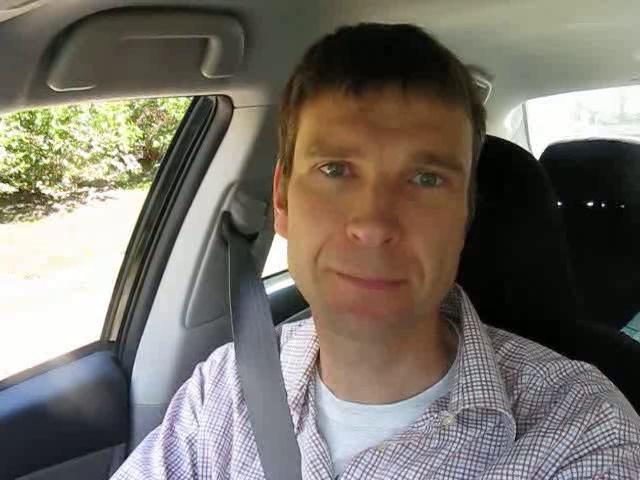no_yawn: (304, 254, 423, 311)
open_eyeL: (298, 150, 369, 192)
open_eyeR: (391, 162, 468, 203)
